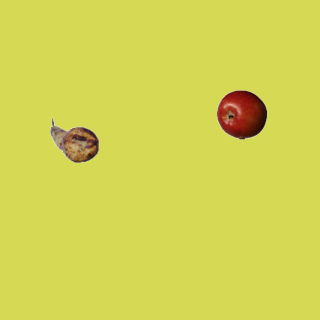Apple Braeburn: (216, 89, 266, 139)
Pear Abate: (49, 115, 99, 165)
